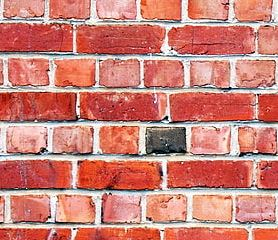brick: (166, 159, 254, 190), (169, 92, 256, 123), (76, 157, 163, 188), (80, 92, 168, 122), (76, 24, 162, 54), (170, 25, 256, 54), (1, 92, 78, 123), (1, 22, 74, 52), (1, 159, 72, 189), (233, 193, 278, 225), (189, 124, 235, 154), (234, 59, 277, 91), (99, 194, 144, 224), (141, 193, 191, 220), (97, 56, 140, 87), (6, 56, 50, 86), (5, 125, 50, 154), (142, 59, 186, 88), (54, 57, 96, 87), (97, 125, 142, 153), (50, 126, 96, 153), (189, 59, 233, 87), (56, 195, 98, 224), (144, 125, 187, 153), (8, 194, 51, 222), (192, 193, 233, 222), (238, 125, 278, 154), (165, 227, 250, 240), (74, 227, 163, 239), (1, 226, 73, 239), (140, 1, 183, 22), (186, 1, 230, 21), (232, 1, 273, 21), (49, 1, 91, 20), (5, 1, 47, 19), (100, 1, 138, 20), (257, 24, 278, 55), (257, 157, 278, 187), (258, 93, 278, 123), (250, 227, 278, 239)
